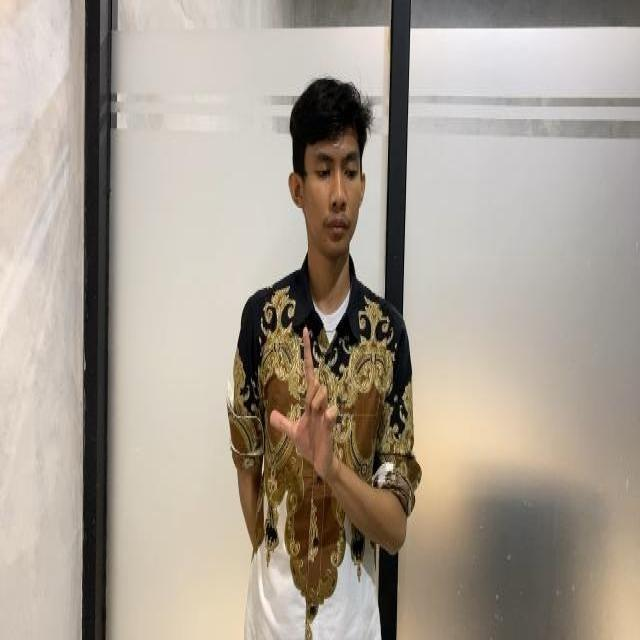L: (258, 320, 364, 475)
